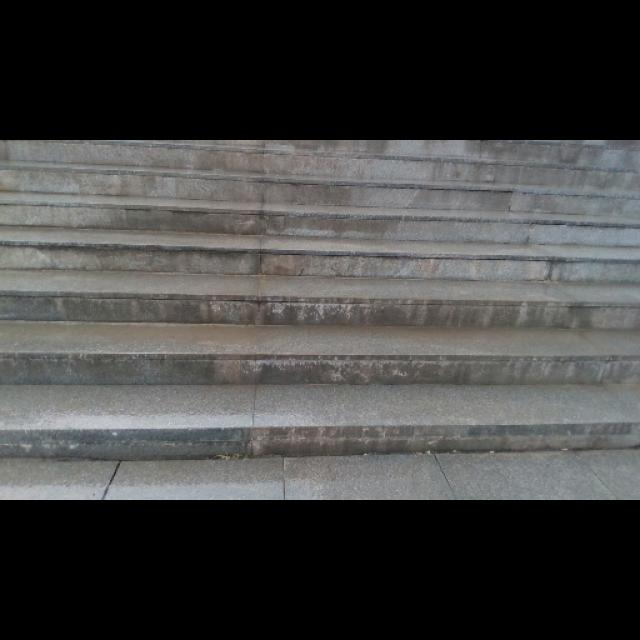Stairs: (0, 138, 639, 460)
